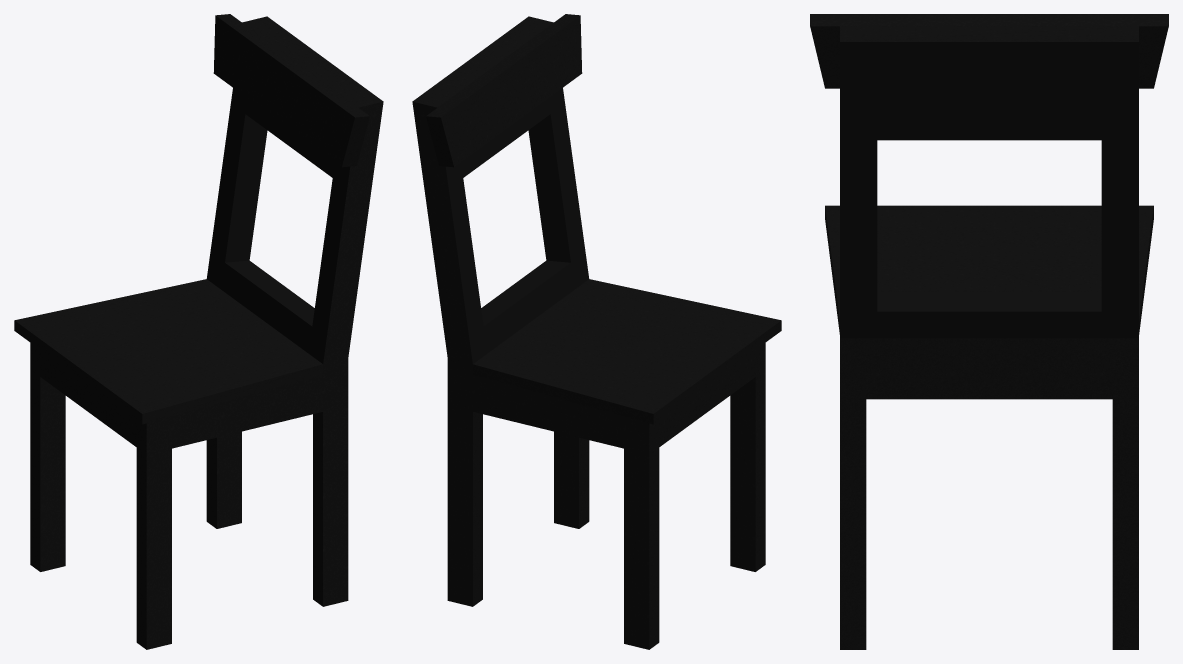
The model's file is kitchenChair.dae.
The picture shows the model from 3 angles, left to right: view 1: azimuth 30°, elevation 25°; view 2: azimuth 150°, elevation 25°; view 3: azimuth 270°, elevation 25°; orthographic projection. The views are drawn at different scales.
Visible parts, largest first — view 1: SketchUp (×3); view 2: SketchUp (×3); view 3: SketchUp (×3).
Boxes of the visible parts, bbox=[...] form: SketchUp (×3): bbox=[14, 14, 383, 649]; SketchUp (×3): bbox=[412, 14, 781, 649]; SketchUp (×3): bbox=[810, 14, 1168, 649].
Bounding box in the file's own units: 19.29 × 18.9 × 36.79.
3 materials, 1 textured.
